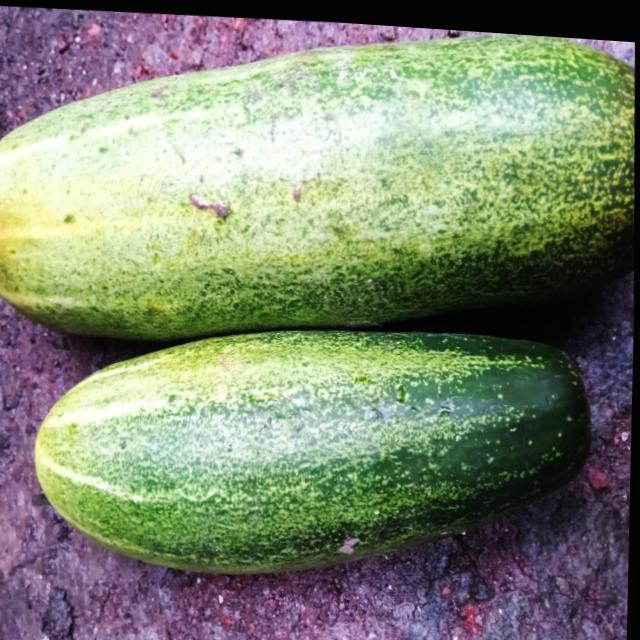Fresh-Cucumber: (0, 0, 640, 360), (31, 298, 599, 595)
